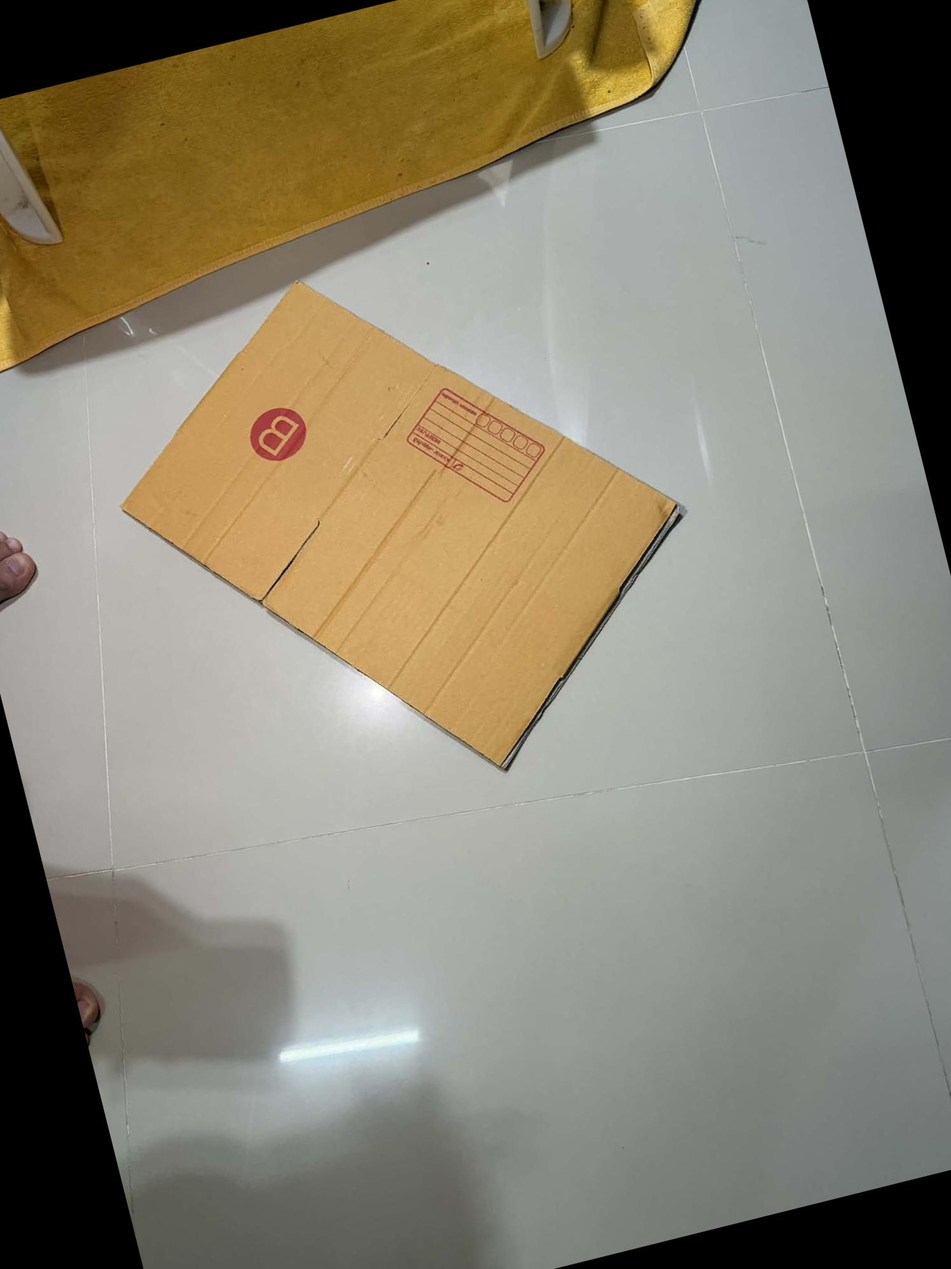box: (397, 372, 562, 530), (243, 401, 311, 468)
class0: (60, 198, 743, 856)
